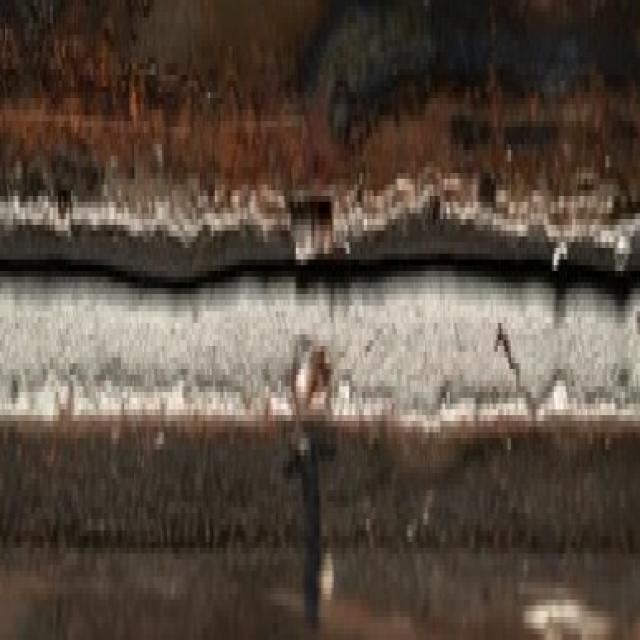Bad Weld: (0, 86, 638, 472)
Defect: (4, 225, 638, 312)
